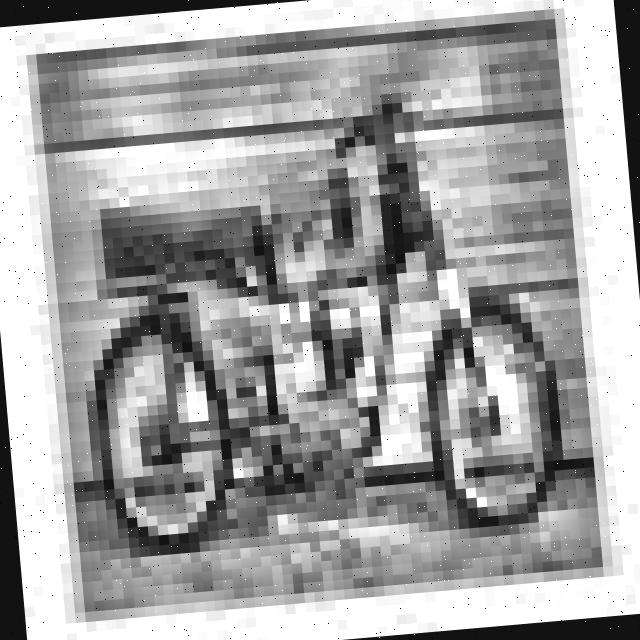mopeds: (61, 102, 597, 568)
